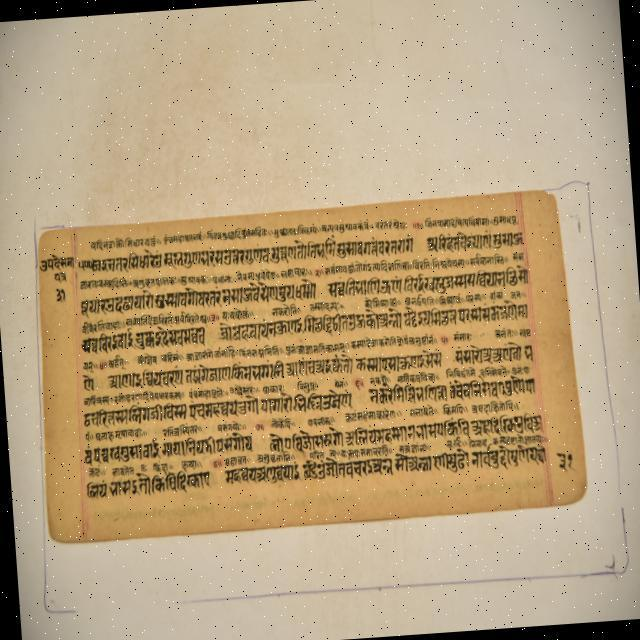text_paragraph: (34, 187, 583, 543)
